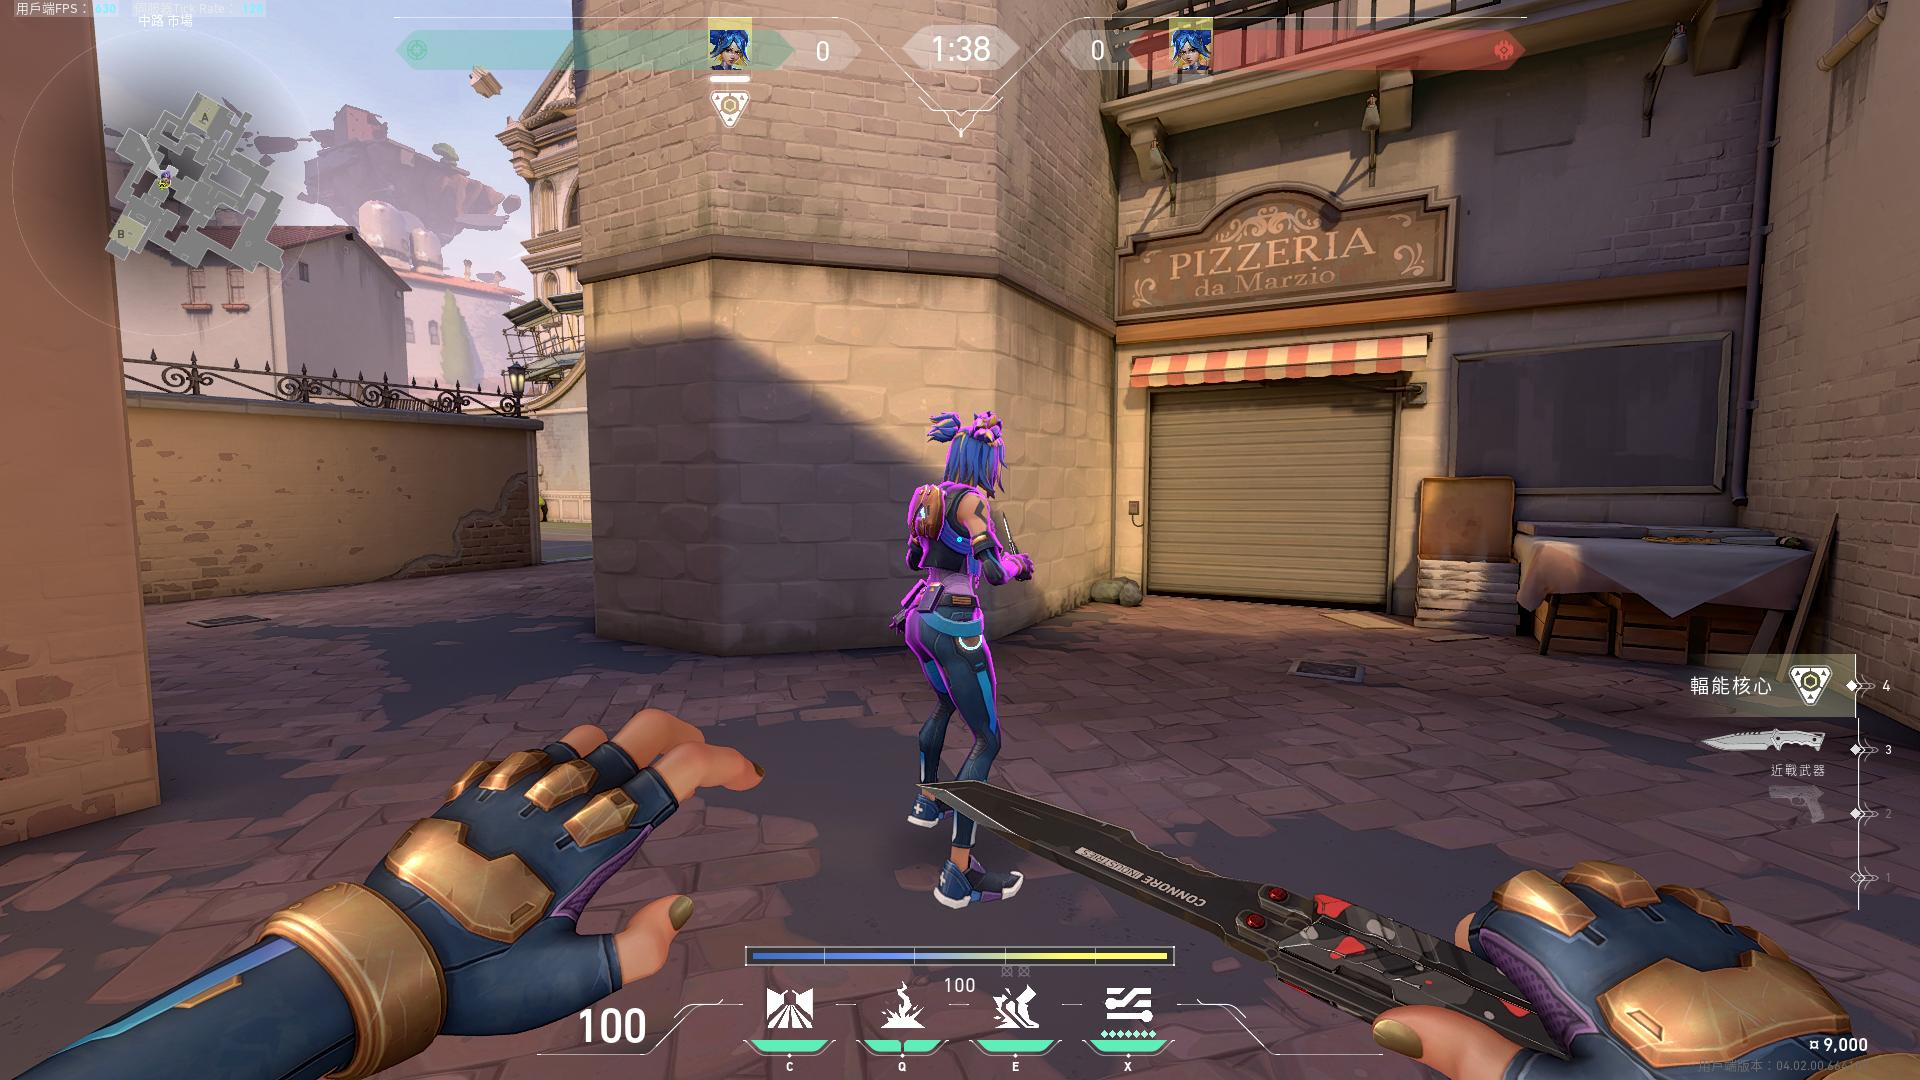enemyBody: (899, 487, 1022, 649)
enemyHead: (945, 419, 1004, 483)
